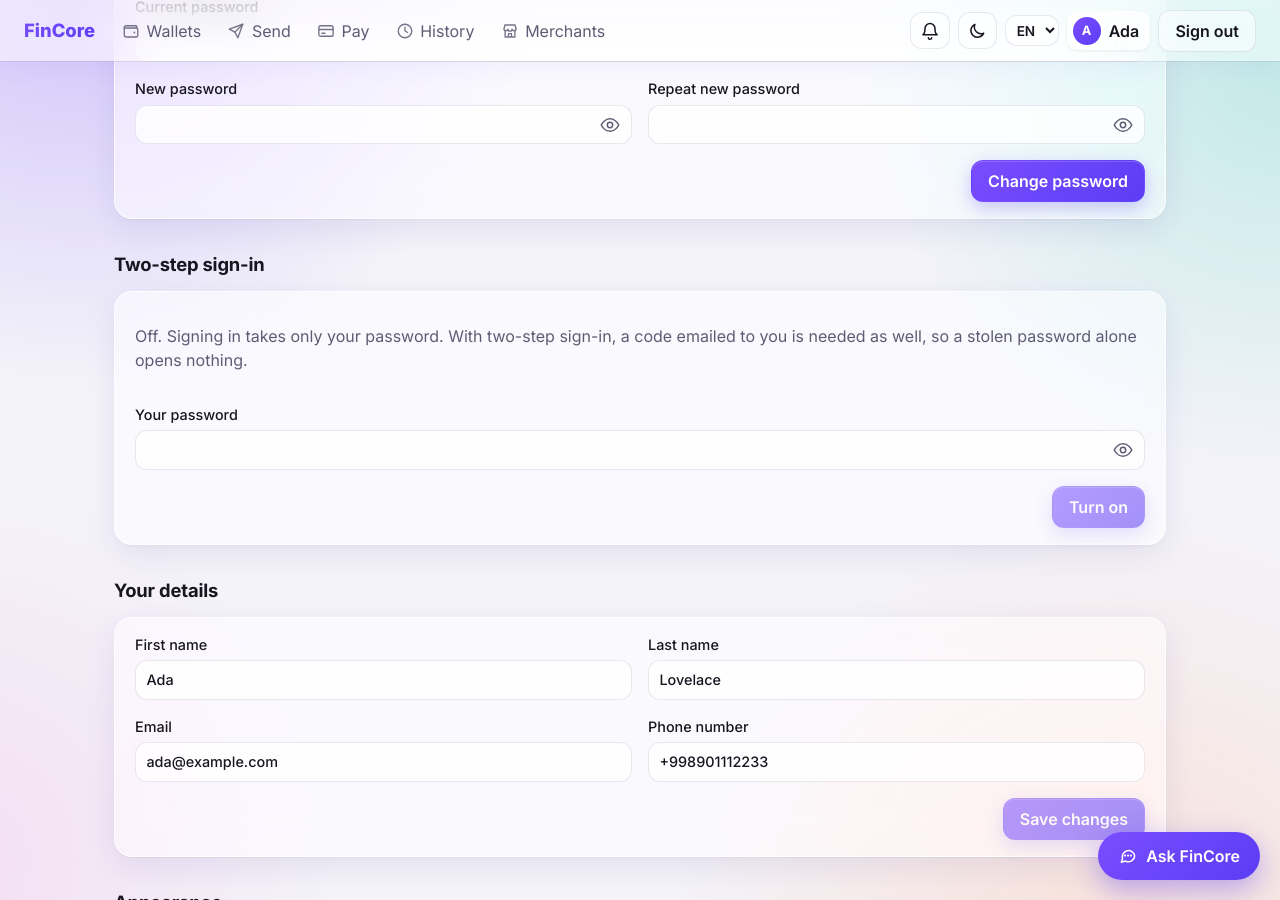
it: two-step sign-in on the Account page › turns on with the password and then the code from the mailbox
The image size is (1280, 900).
(page scrolled)
Check: the text "Off. Signing in takes only your password" is shown, box [135, 326, 1137, 370]
Check: the button "Turn on" is disabled, box [1052, 486, 1145, 528]
Type "correct-horse" into the password field labelled "Your password" at (640, 450), box [135, 430, 1145, 470]
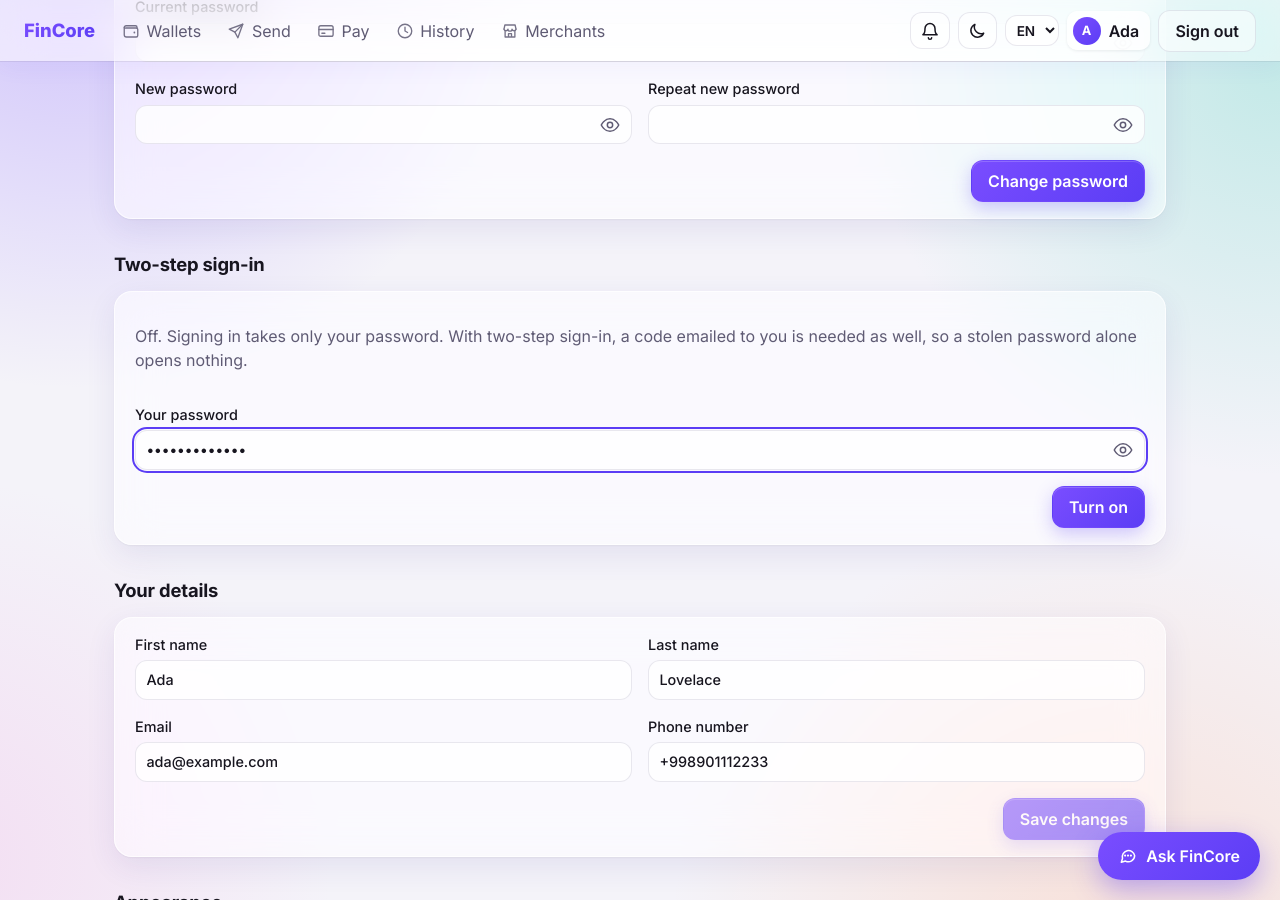
Click the button "Turn on" at (1098, 507), box [1052, 486, 1145, 528]
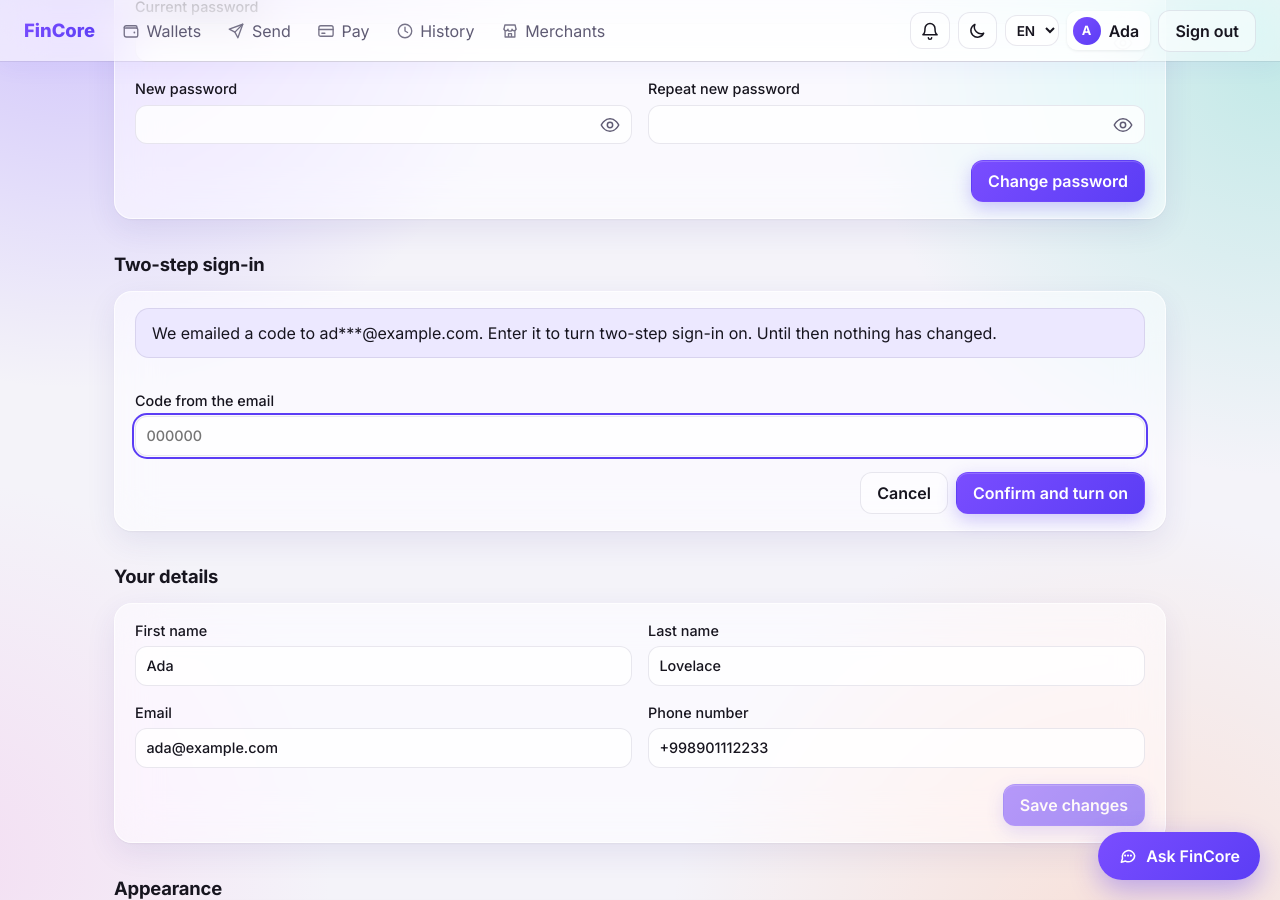
Check: the text "We emailed a code to ad***@example.com" is shown, box [152, 323, 997, 343]
Type "654321" into the field labelled "Code from the email" at (640, 436), box [135, 416, 1145, 456]
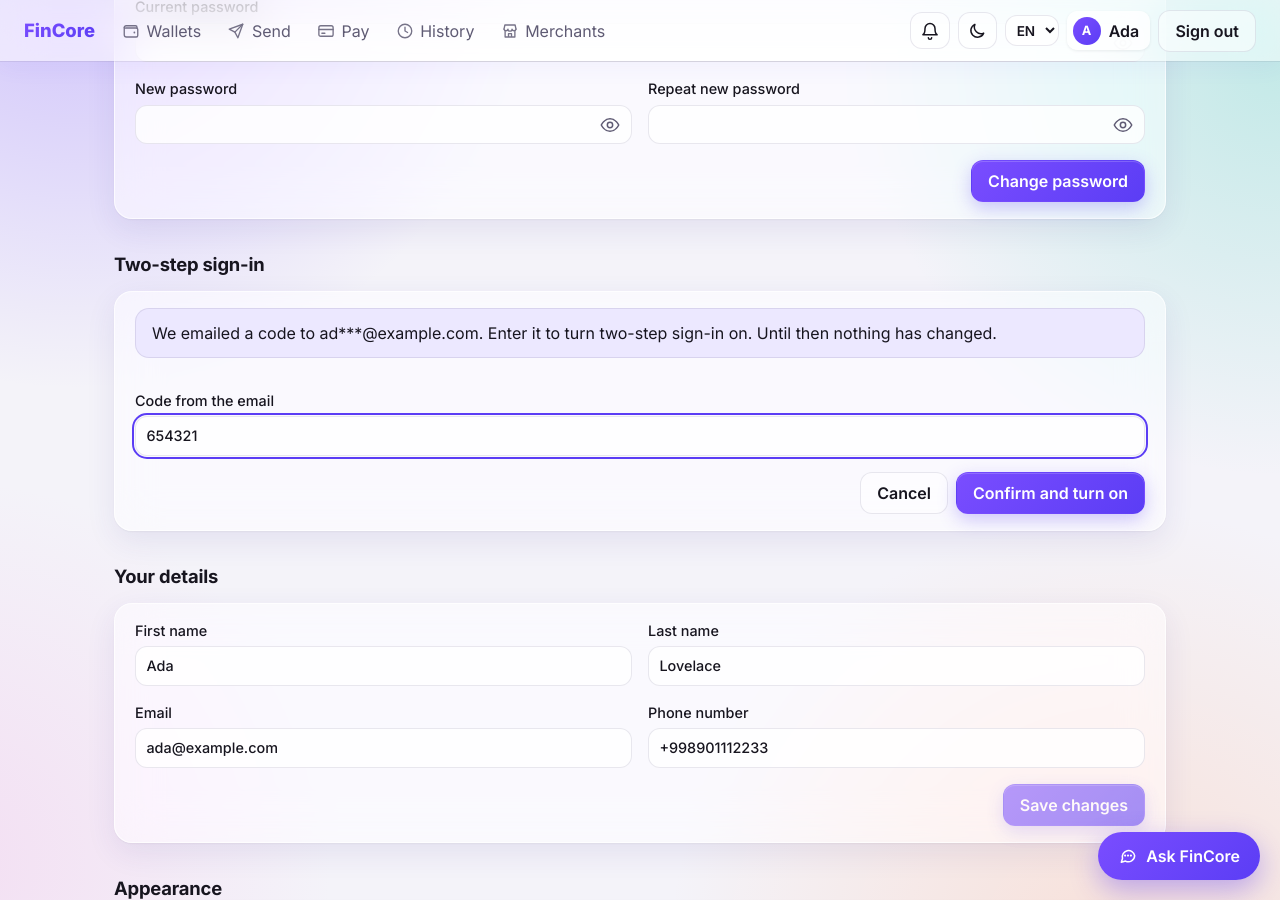
Click the button "Confirm and turn on" at (1050, 493), box [956, 472, 1145, 514]
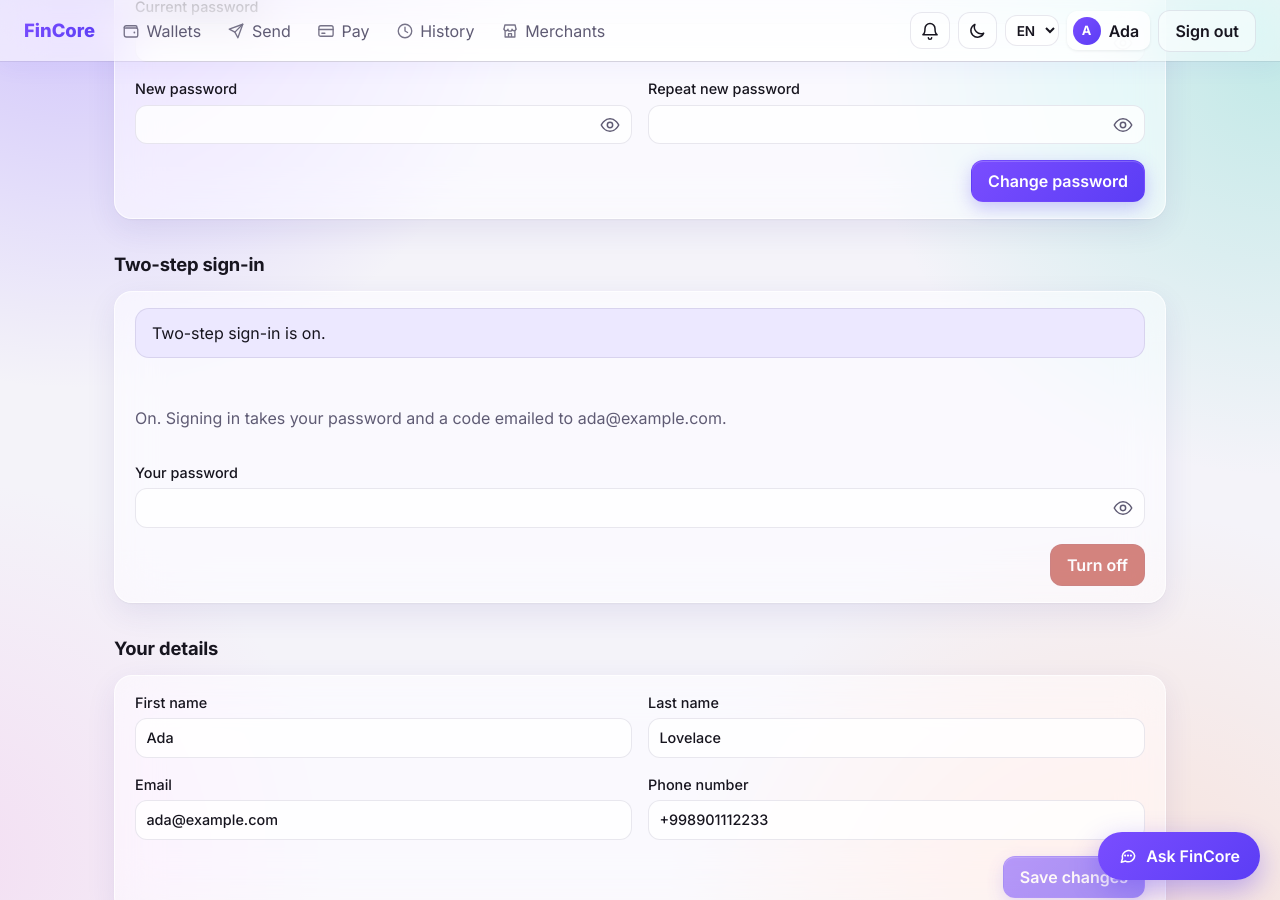
Check: the text "Two-step sign-in is on." is shown, box [135, 308, 1145, 358]
Check: the text "On. Signing in takes your password and a code" is shown, box [135, 408, 726, 428]
